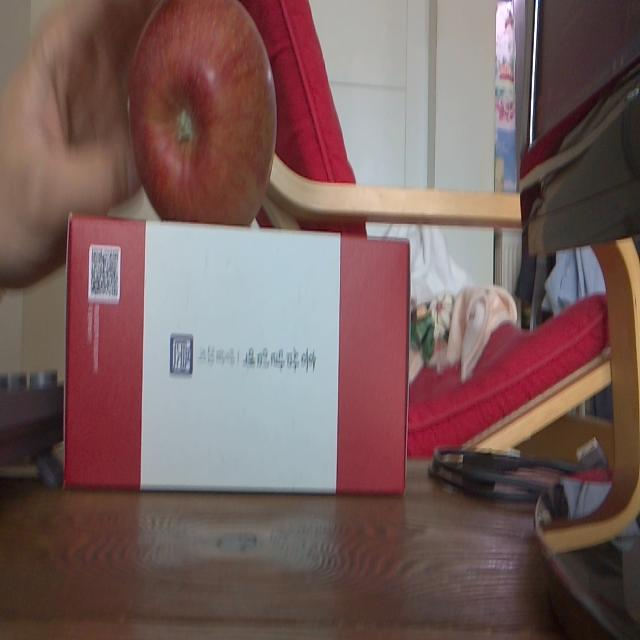apple: (128, 0, 276, 225)
